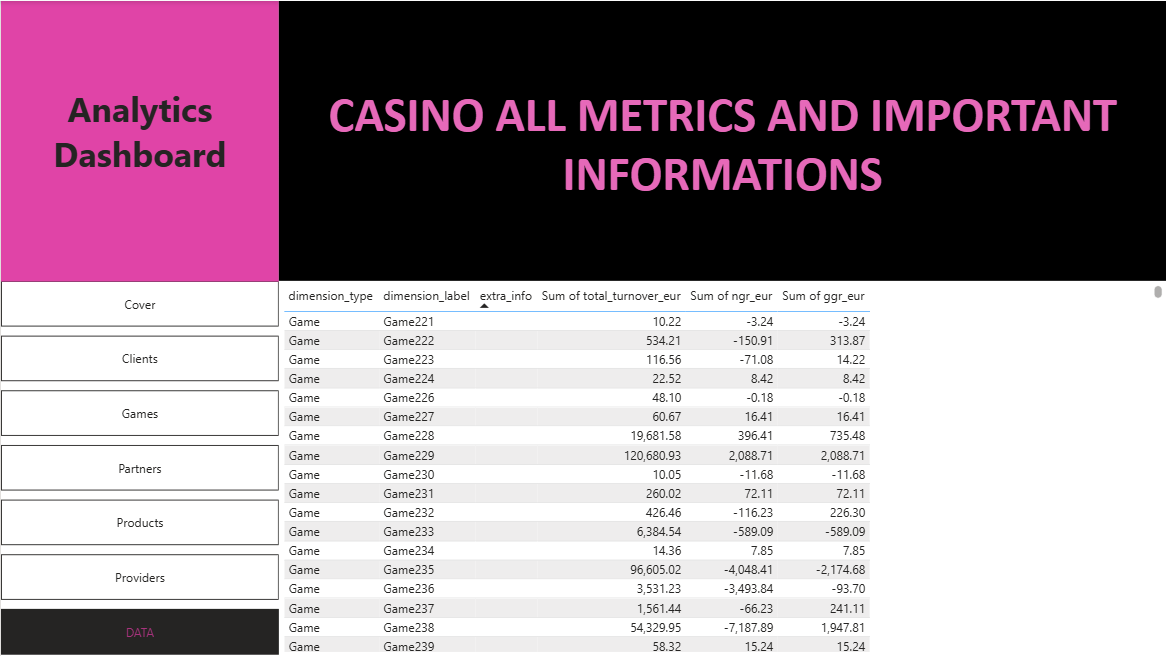

Layout of this report page (visuals, bound fields, positions):
{"tool":"powerbi","page":{"name":"DATA","canvas":[1280,720],"ordinal":6},"visuals":[{"type":"tableEx","fields":{"Values":["casino all_metrics.dimension_type","casino all_metrics.dimension_label","casino all_metrics.extra_info","Sum(casino all_metrics.total_turnover_eur)","Sum(casino all_metrics.ngr_eur)","Sum(casino all_metrics.ggr_eur)"]},"box":[305,307.5,975,412.5],"z":0},{"type":"textbox","box":[305,0,975,307.5],"z":2000},{"type":"pageNavigator","box":[0,307.5,305,412.5],"z":3000},{"type":"textbox","box":[0,0,305,308],"z":3001}]}

Visuals, with their boxes in screenshot pixels (x1, y1, x2, y2), scaled from the page's 1280x720 canvas onto the 1166x656 screenshot:
tableEx - casino all_metrics.dimension_type x casino all_metrics.dimension_label: 278, 280, 1165, 655
textbox: 278, 0, 1165, 280
pageNavigator: 0, 280, 278, 655
textbox: 0, 0, 278, 281
